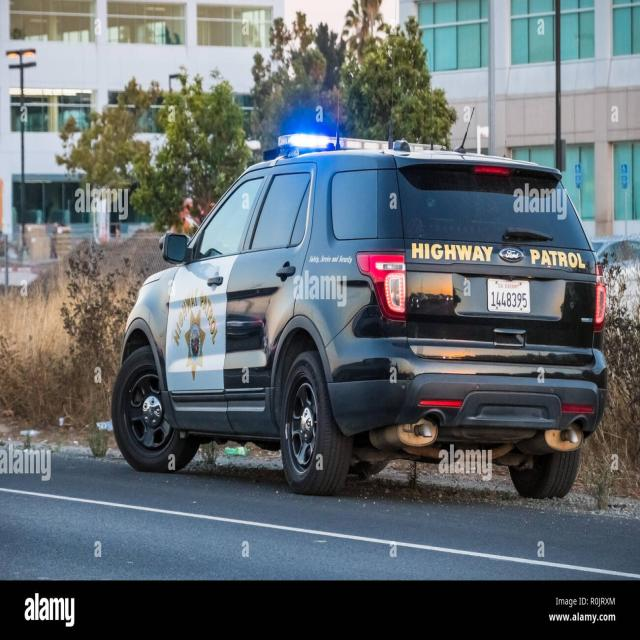cop: (109, 131, 612, 505)
